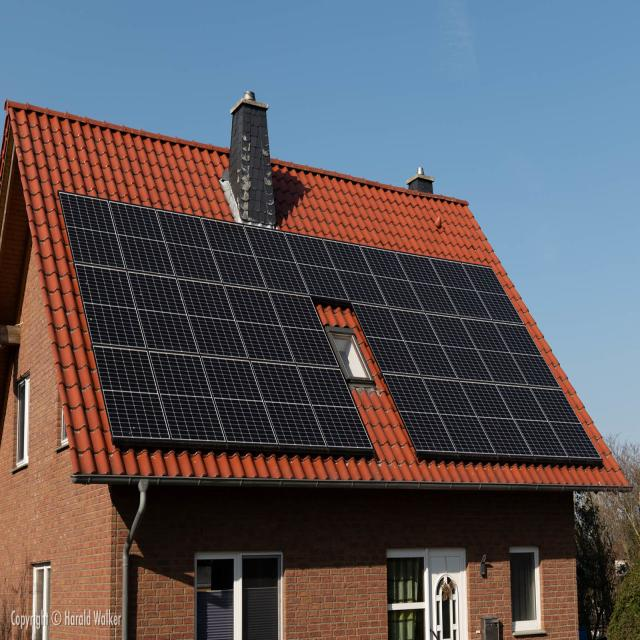clean-solar-panel: (61, 191, 602, 465)
